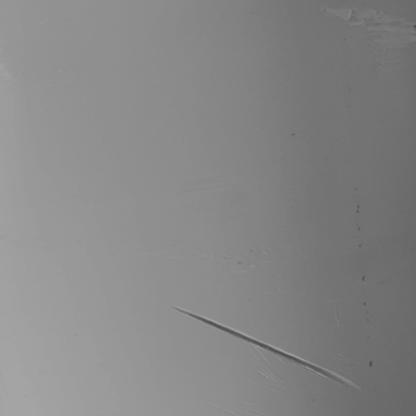sunshang: (172, 309, 364, 387), (331, 5, 416, 47)
